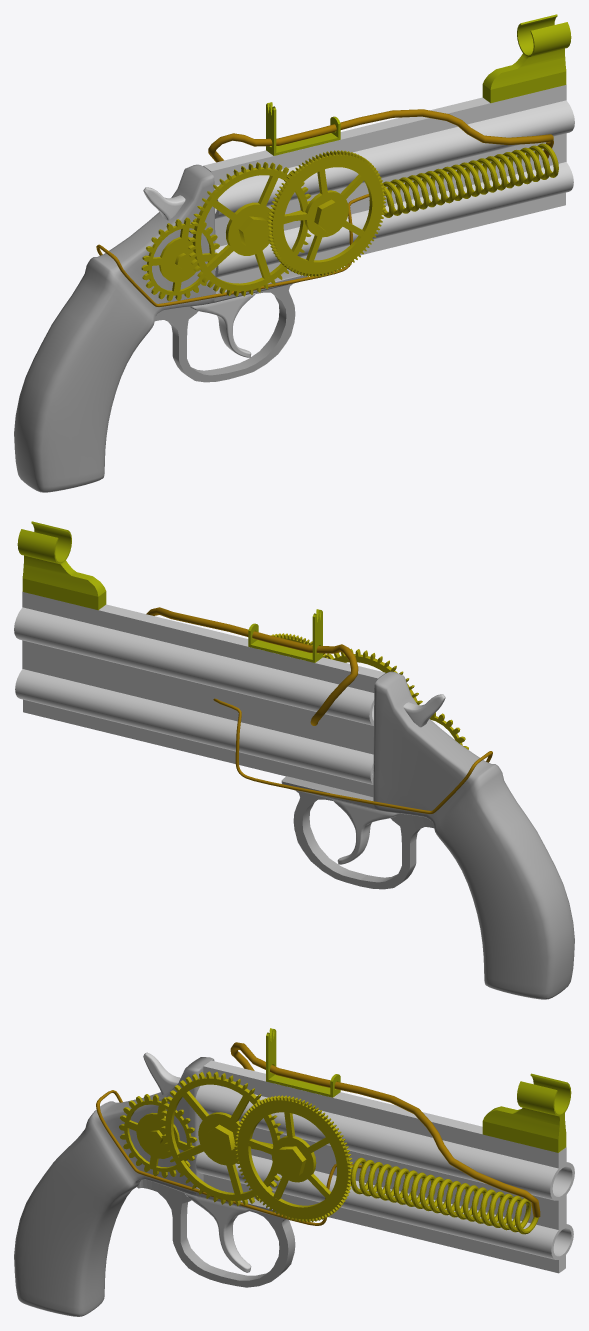
Rendered from gun.fbx.
3 views of the same model, one above another, from view 1: azimuth 30°, elevation 25°; view 2: azimuth 150°, elevation 25°; view 3: azimuth 330°, elevation 25° (orthographic).
Parts seen in each view (by area): view 1: pCube1, pPipe3, pCube8, polySurface9, pHelix1, pPipe7, polySurface11, pCylinder7, pCube6, pCube5, pCylinder6, pCube7; view 2: pPipe3, pCube1, pPipe7, pCylinder7, pCylinder6, pCube6, pCube5, polySurface9, pCube7; view 3: pPipe3, pCube1, pCube8, polySurface9, pHelix1, pPipe7, pCylinder7, polySurface11, pCube6, pCube5, pCylinder6, pCube7.
Boxes of the visible parts, bbox=[...] form: pCube1: bbox=[14, 164, 306, 492]; pPipe3: bbox=[203, 85, 574, 289]; pCube8: bbox=[267, 150, 386, 277]; polySurface9: bbox=[188, 162, 311, 296]; pHelix1: bbox=[369, 143, 558, 217]; pPipe7: bbox=[482, 14, 571, 103]; polySurface11: bbox=[141, 217, 219, 301]; pCylinder7: bbox=[208, 109, 553, 162]; pCube6: bbox=[190, 292, 256, 357]; pCube5: bbox=[266, 102, 340, 155]; pCylinder6: bbox=[96, 193, 369, 306]; pCube7: bbox=[143, 187, 185, 220]; pPipe3: bbox=[14, 592, 385, 796]; pCube1: bbox=[281, 671, 574, 999]; pPipe7: bbox=[17, 521, 106, 610]; pCylinder7: bbox=[146, 607, 358, 725]; pCylinder6: bbox=[213, 698, 492, 813]; pCube6: bbox=[332, 799, 398, 864]; pCube5: bbox=[248, 609, 322, 662]; polySurface9: bbox=[327, 648, 422, 704]; pCube7: bbox=[403, 694, 445, 727]; pPipe3: bbox=[195, 1060, 574, 1273]; pCube1: bbox=[14, 1057, 295, 1316]; pCube8: bbox=[234, 1095, 352, 1222]; polySurface9: bbox=[160, 1071, 283, 1206]; pHelix1: bbox=[350, 1157, 538, 1234]; pPipe7: bbox=[482, 1073, 571, 1152]; pCylinder7: bbox=[230, 1042, 540, 1217]; polySurface11: bbox=[119, 1094, 197, 1177]; pCube6: bbox=[184, 1193, 251, 1272]; pCube5: bbox=[266, 1028, 340, 1097]; pCylinder6: bbox=[96, 1090, 361, 1225]; pCube7: bbox=[143, 1052, 180, 1094].
Size of the model in its own units: 9.21 by 5.52 by 1.13.
